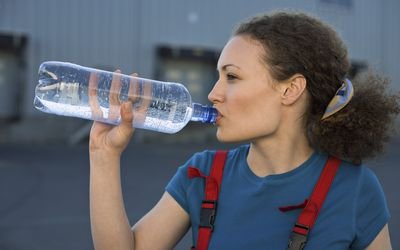drinking: (34, 8, 371, 198)
